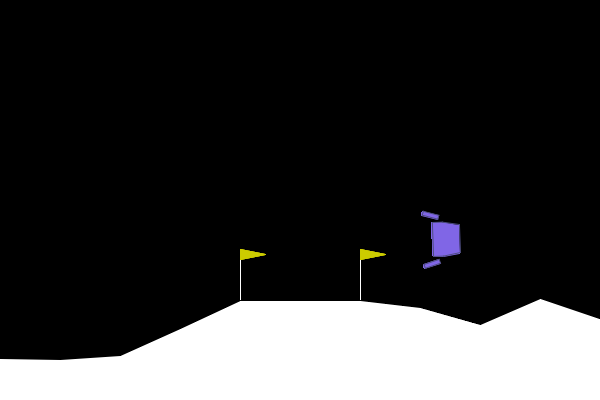lander: (421, 209, 463, 270)
